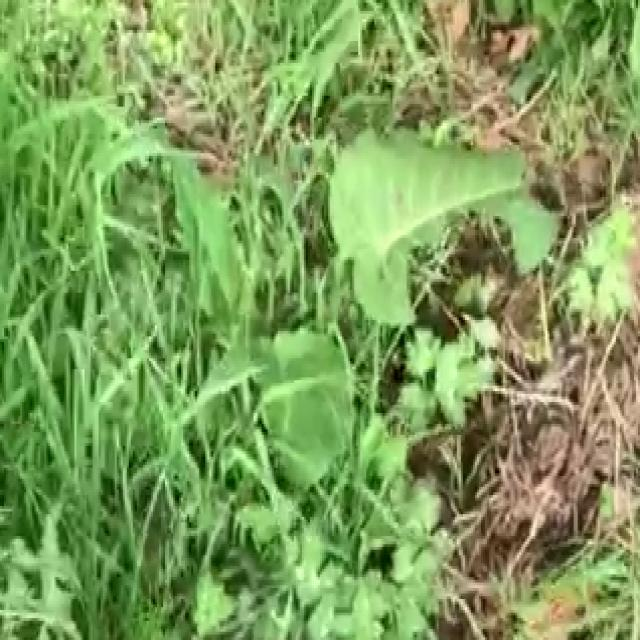organic waste: (106, 104, 600, 566)
